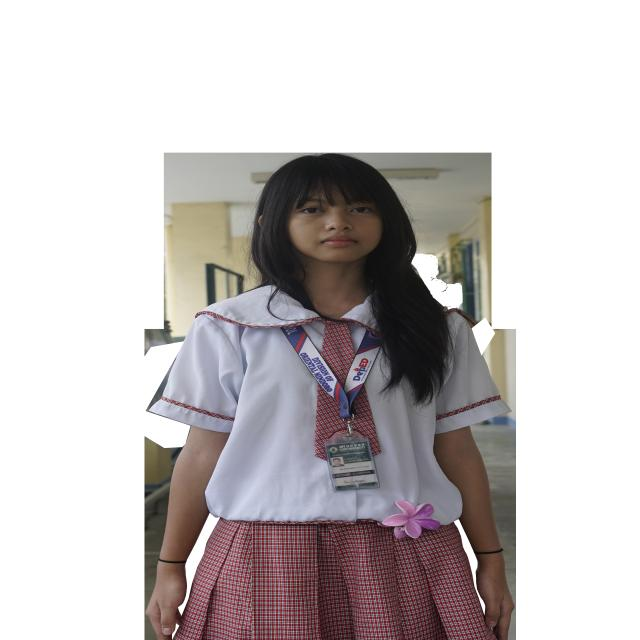id lace: (280, 326, 380, 419)
pologirl: (151, 287, 509, 525)
skirt: (176, 518, 495, 640)
